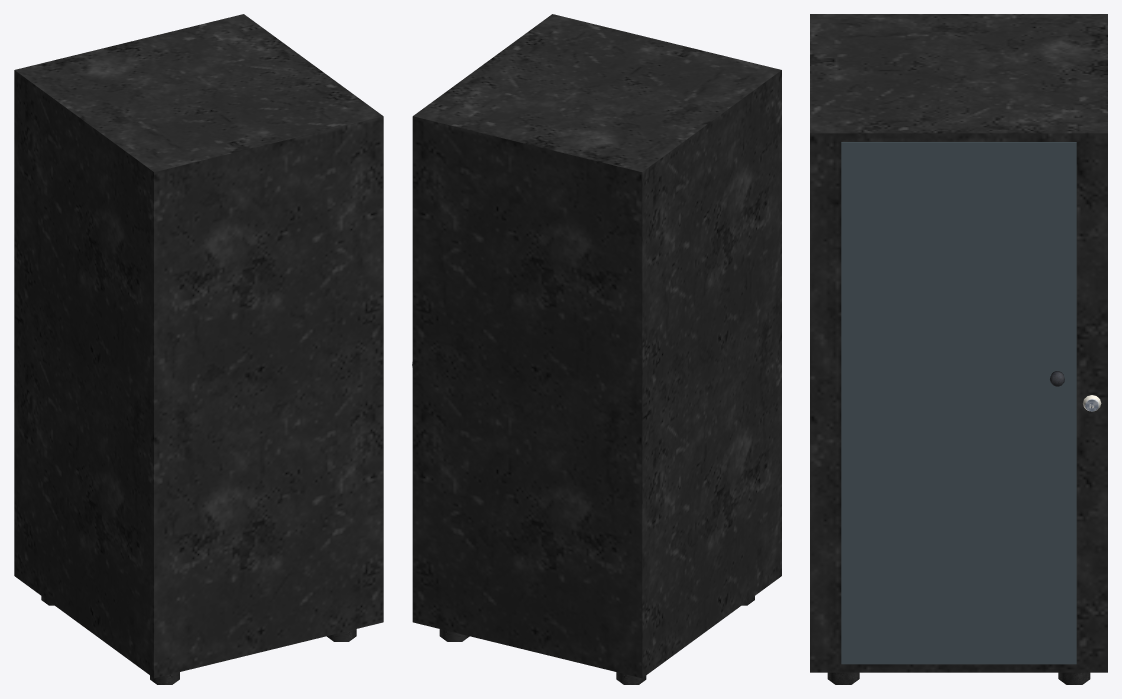
Rendered from racks.fbx.
3 renders of one model, left to right at view 1: azimuth 30°, elevation 25°; view 2: azimuth 150°, elevation 25°; view 3: azimuth 270°, elevation 25°, orthographic. The views are drawn at different scales.
Visible parts, largest first — view 1: Cube.010; view 2: Cube.010; view 3: Cube.010.
Boxes of the visible parts, x1,y1,x2,y2 form: Cube.010: (14,14,383,684); Cube.010: (412,14,781,684); Cube.010: (810,14,1107,684).
Bounding box in the file's own units: 209 × 437 × 211.
3 materials, 3 textured.
